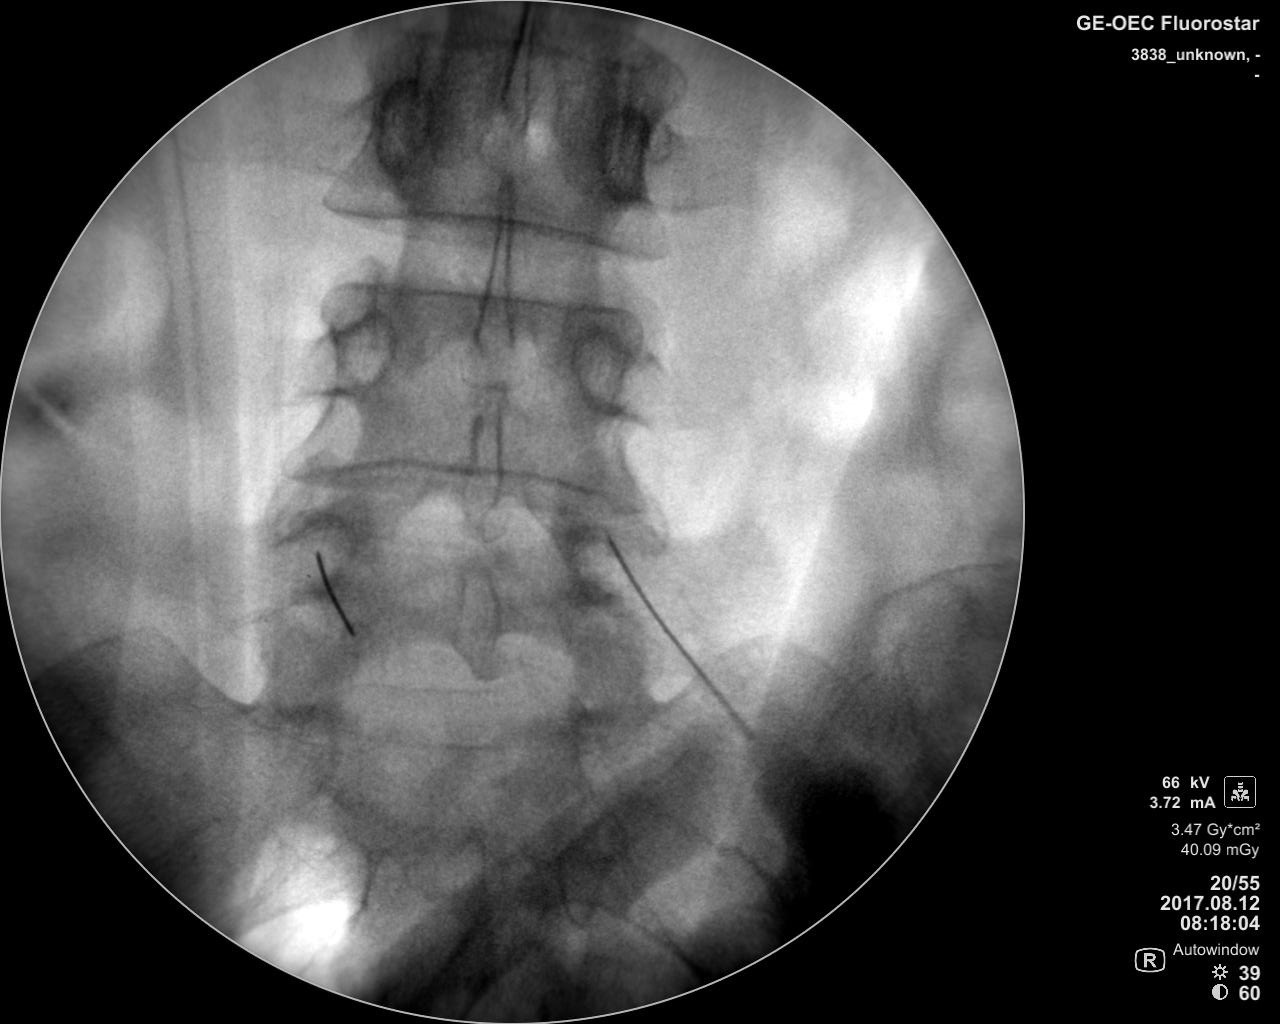eyes: (258, 700, 338, 810), (277, 503, 360, 600), (370, 76, 437, 182), (324, 303, 396, 397), (571, 325, 636, 425), (567, 699, 636, 792), (558, 521, 629, 608), (594, 106, 652, 207)
line: (310, 189, 667, 262), (259, 451, 643, 514), (300, 271, 648, 326), (387, 30, 672, 78), (330, 707, 559, 762)
nose: (467, 171, 519, 362), (446, 554, 504, 681), (453, 399, 503, 532), (495, 3, 541, 143)
